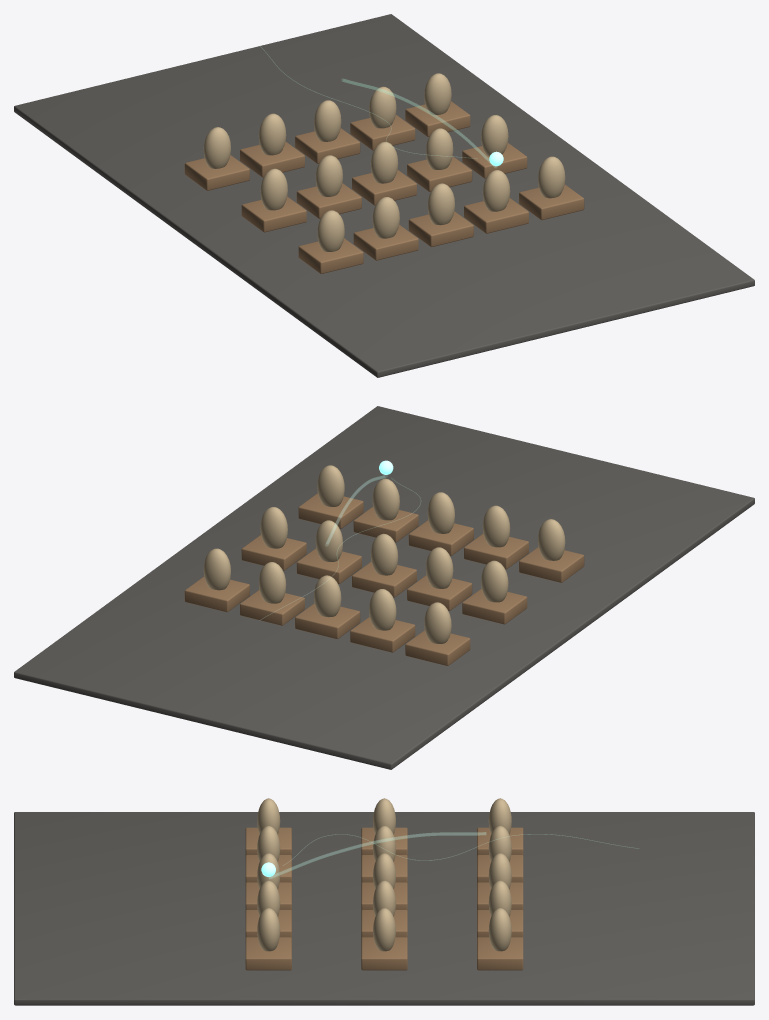
File: aerosense_06_return_v2.glb
3 views of the same model, one above another, from view 1: azimuth 30°, elevation 25°; view 2: azimuth 150°, elevation 25°; view 3: azimuth 270°, elevation 25° (orthographic).
Parts seen in each view (by area): view 1: ReturnFloor, FoodPallet.002, FoodPallet, FoodPallet.014, FoodPallet.001, FoodPallet.005, FoodPallet.008, FoodPallet.011, FoodPallet.010, FoodPallet.004, FoodPallet.012, FoodPallet.006 (+19 smaller); view 2: ReturnFloor, FoodPallet, FoodPallet.002, FoodPallet.012, FoodPallet.001, FoodPallet.003, FoodPallet.006, FoodPallet.009, FoodPallet.010, FoodPallet.004, FoodPallet.014, FoodPallet.008 (+19 smaller); view 3: ReturnFloor, FoodPallet.013, FoodPallet.012, FoodPallet.014, FoodBag.012, FoodBag.014, FoodBag.013, FINAL_ODOR, FoodPallet.006, FoodPallet.007, FoodPallet.008, FoodPallet.003 (+20 smaller).
Part boxes in pixels (bbox=[...]): ReturnFloor: bbox=[14, 14, 754, 377]; FoodPallet.002: bbox=[298, 238, 363, 273]; FoodPallet: bbox=[184, 155, 249, 190]; FoodPallet.014: bbox=[519, 184, 584, 220]; FoodPallet.001: bbox=[241, 196, 306, 232]; FoodPallet.005: bbox=[353, 225, 418, 260]; FoodPallet.008: bbox=[408, 211, 473, 247]; FoodPallet.011: bbox=[464, 198, 528, 233]; FoodPallet.010: bbox=[407, 156, 472, 191]; FoodPallet.004: bbox=[296, 183, 361, 218]; FoodPallet.012: bbox=[405, 101, 470, 136]; FoodPallet.006: bbox=[295, 128, 360, 163]; ReturnFloor: bbox=[14, 406, 754, 769]; FoodPallet: bbox=[405, 630, 470, 665]; FoodPallet.002: bbox=[519, 547, 584, 582]; FoodPallet.012: bbox=[184, 576, 249, 612]; FoodPallet.001: bbox=[462, 588, 527, 624]; FoodPallet.003: bbox=[350, 617, 415, 652]; FoodPallet.006: bbox=[295, 603, 360, 639]; FoodPallet.009: bbox=[240, 590, 304, 625]; FoodPallet.010: bbox=[296, 548, 361, 583]; FoodPallet.004: bbox=[407, 575, 472, 610]; FoodPallet.014: bbox=[298, 493, 363, 528]; FoodPallet.008: bbox=[408, 520, 473, 555]; ReturnFloor: bbox=[14, 812, 754, 1005]; FoodPallet.013: bbox=[361, 937, 407, 970]; FoodPallet.012: bbox=[477, 937, 523, 970]; FoodPallet.014: bbox=[245, 937, 291, 970]; FoodBag.012: bbox=[488, 908, 511, 951]; FoodBag.014: bbox=[257, 908, 280, 951]; FoodBag.013: bbox=[373, 908, 395, 951]; FINAL_ODOR: bbox=[268, 832, 485, 878]; FoodPallet.006: bbox=[477, 882, 523, 910]; FoodPallet.007: bbox=[361, 882, 407, 910]; FoodPallet.008: bbox=[245, 882, 291, 910]; FoodPallet.003: bbox=[477, 855, 523, 883].
Bounding box in the file's own units: 9.6 × 2.14 × 16.
